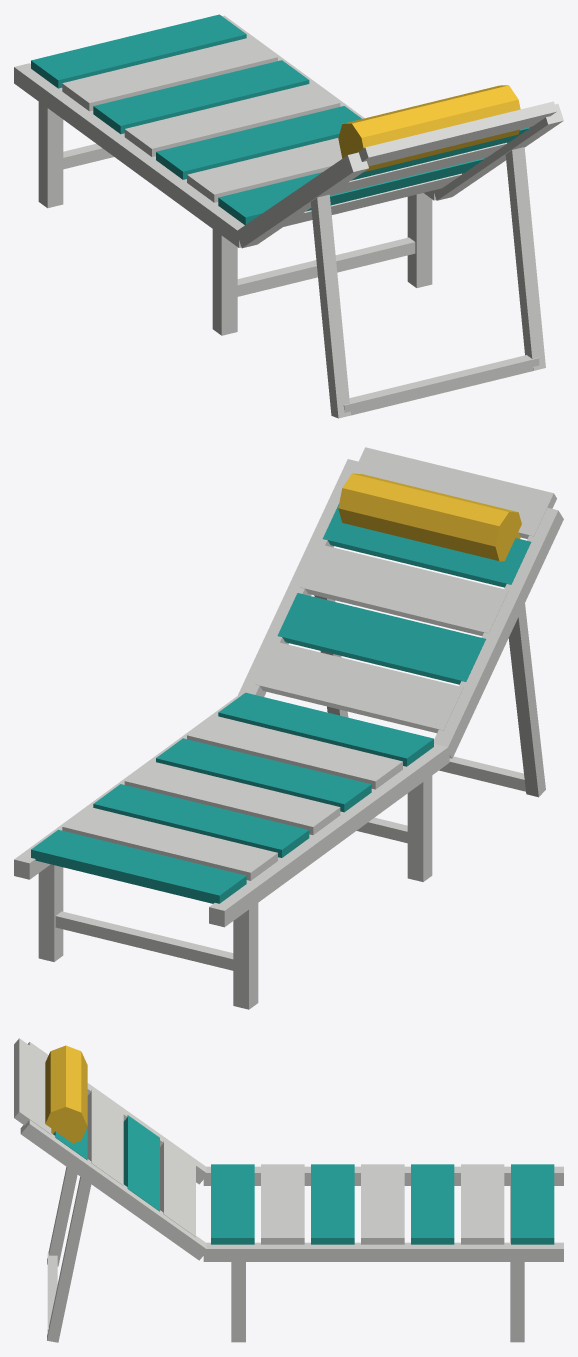
File: lounger.glb
The picture shows the model from 3 angles, top to bottom: view 1: azimuth 30°, elevation 25°; view 2: azimuth 150°, elevation 25°; view 3: azimuth 270°, elevation 25°; orthographic projection. The views are drawn at different scales.
Visible parts, largest first — view 1: Lounger; view 2: Lounger; view 3: Lounger.
Boxes of the visible parts, bbox=[...] form: Lounger: bbox=[14, 14, 563, 418]; Lounger: bbox=[14, 447, 563, 1009]; Lounger: bbox=[14, 1038, 563, 1342].
Bounding box in the file's own units: 0.67 × 0.8631 × 1.89.
